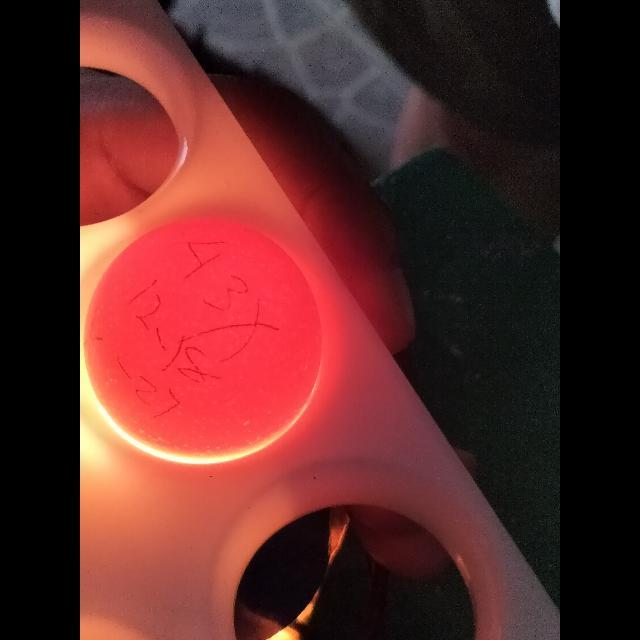Infertile: (94, 213, 316, 444)
